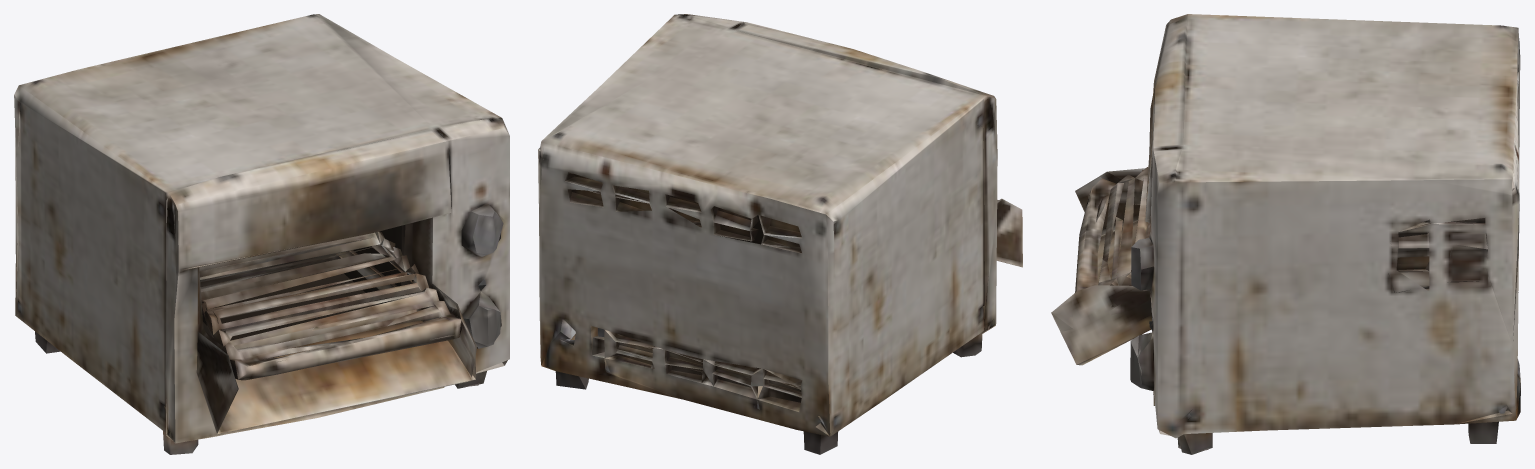
File: p7-conveyor-toaster.glb
The picture shows the model from 3 angles, left to right: view 1: azimuth 30°, elevation 25°; view 2: azimuth 150°, elevation 25°; view 3: azimuth 270°, elevation 25°; orthographic projection. The views are drawn at different scales.
Visible parts, largest first — view 1: p7-conveyor-toaster; view 2: p7-conveyor-toaster; view 3: p7-conveyor-toaster.
Boxes of the visible parts, <box> form: p7-conveyor-toaster: <box>14,14,509,454</box>; p7-conveyor-toaster: <box>538,14,1022,454</box>; p7-conveyor-toaster: <box>1051,14,1520,454</box>.
Bounding box in the file's own units: 0.5156 × 0.4 × 0.6.
1 material, 1 textured.
